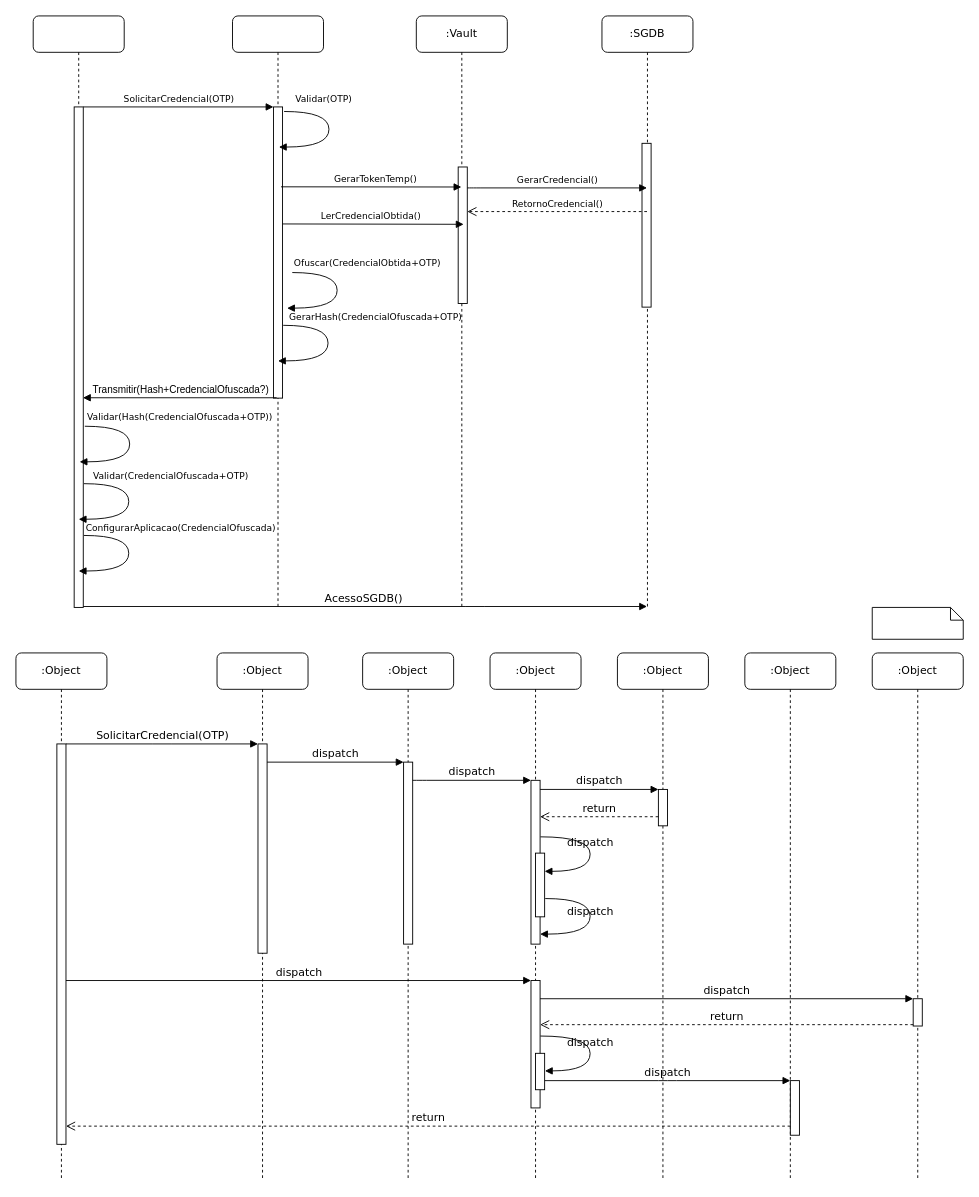
Image size: 979x1197. Some labels were removed from this diagram. The shapes that lost their labels are listed below. From the top down, each one's box as (x1, y1, x2, y2) in pixels, then its label:
(32, 15, 124, 607): : Setup
(232, 15, 324, 607): :Servidor
(871, 607, 963, 639): Note
